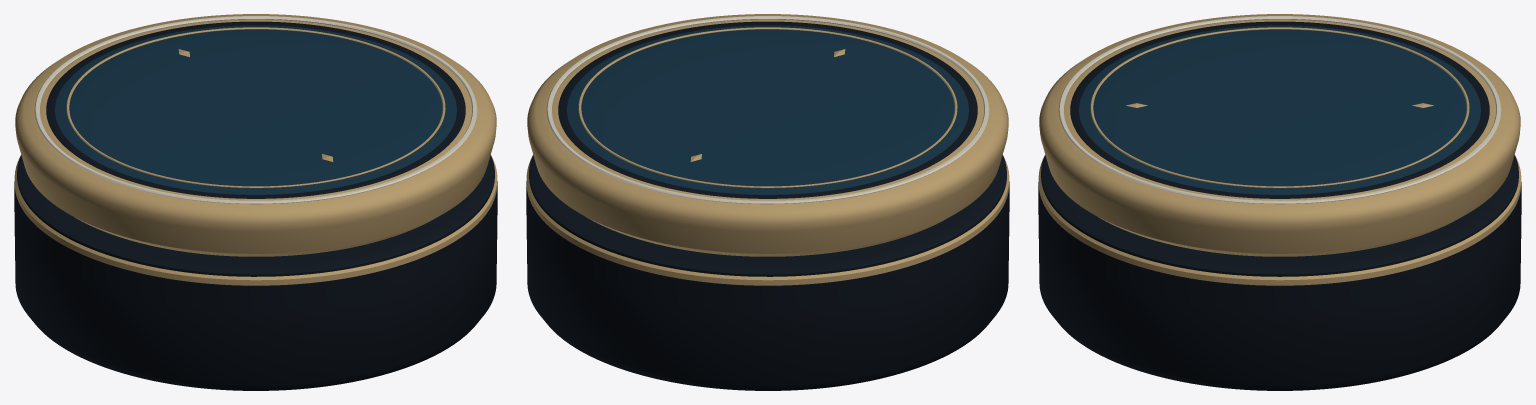
Rendered from turn-button.glb.
The picture shows the model from 3 angles, left to right: view 1: azimuth 30°, elevation 25°; view 2: azimuth 150°, elevation 25°; view 3: azimuth 270°, elevation 25°; orthographic projection.
Parts seen in each view (by area): view 1: Base Dark graphite mechanism, Cap Turn enamel - runtime state, Cap Champagne satin brass, Cap Dark graphite mechanism, Base Champagne satin brass, Cap Warm silver highlight; view 2: Base Dark graphite mechanism, Cap Turn enamel - runtime state, Cap Champagne satin brass, Cap Dark graphite mechanism, Base Champagne satin brass, Cap Warm silver highlight; view 3: Base Dark graphite mechanism, Cap Turn enamel - runtime state, Cap Champagne satin brass, Cap Dark graphite mechanism, Base Champagne satin brass, Cap Warm silver highlight.
Boxes of the visible parts, x1,y1,x2,y2 form: Base Dark graphite mechanism: (14, 155, 497, 390); Cap Turn enamel - runtime state: (55, 25, 456, 194); Cap Champagne satin brass: (15, 14, 496, 256); Cap Dark graphite mechanism: (46, 21, 465, 198); Base Champagne satin brass: (14, 156, 497, 285); Cap Warm silver highlight: (34, 16, 477, 204); Base Dark graphite mechanism: (526, 155, 1009, 390); Cap Turn enamel - runtime state: (567, 25, 968, 194); Cap Champagne satin brass: (527, 14, 1008, 256); Cap Dark graphite mechanism: (558, 21, 977, 198); Base Champagne satin brass: (526, 156, 1009, 285); Cap Warm silver highlight: (546, 16, 989, 204); Base Dark graphite mechanism: (1038, 155, 1521, 390); Cap Turn enamel - runtime state: (1079, 25, 1480, 194); Cap Champagne satin brass: (1039, 14, 1520, 256); Cap Dark graphite mechanism: (1070, 21, 1489, 198); Base Champagne satin brass: (1038, 156, 1521, 285); Cap Warm silver highlight: (1058, 16, 1501, 204).
Bounding box in the file's own units: 0.0928 × 0.0399 × 0.0928.
